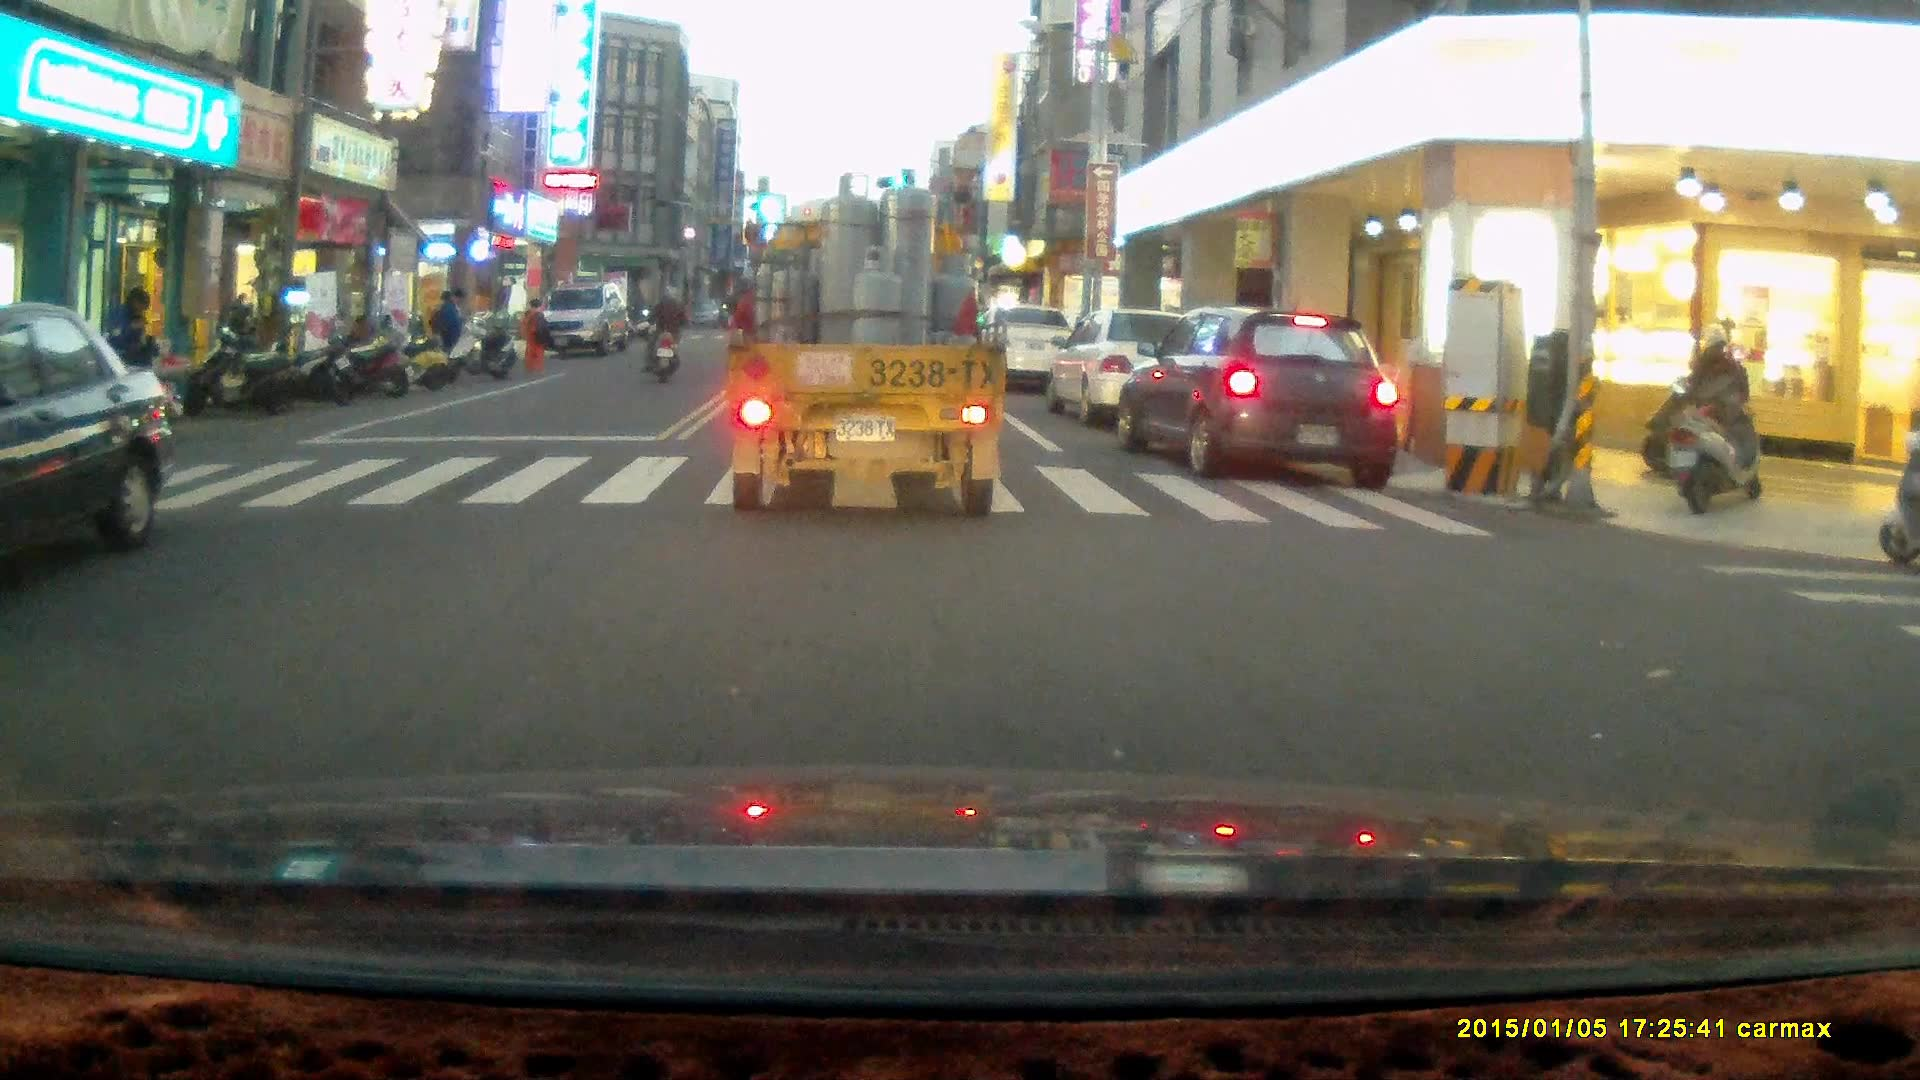pedestrian: (103, 285, 163, 407), (431, 283, 467, 372), (228, 290, 258, 379), (519, 295, 554, 371)
rider: (1640, 316, 1758, 481), (640, 278, 688, 380)
vehicle: (728, 165, 1007, 520), (1115, 306, 1397, 489), (1, 304, 178, 563), (1054, 306, 1228, 426), (975, 307, 1082, 397), (534, 283, 632, 358)
